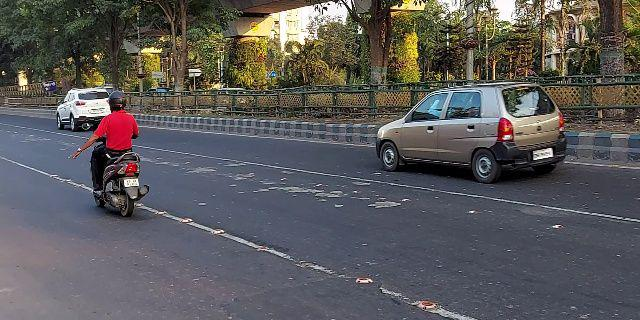Car: (373, 80, 570, 185), (55, 85, 110, 130)
Motorbike: (86, 88, 151, 224)
